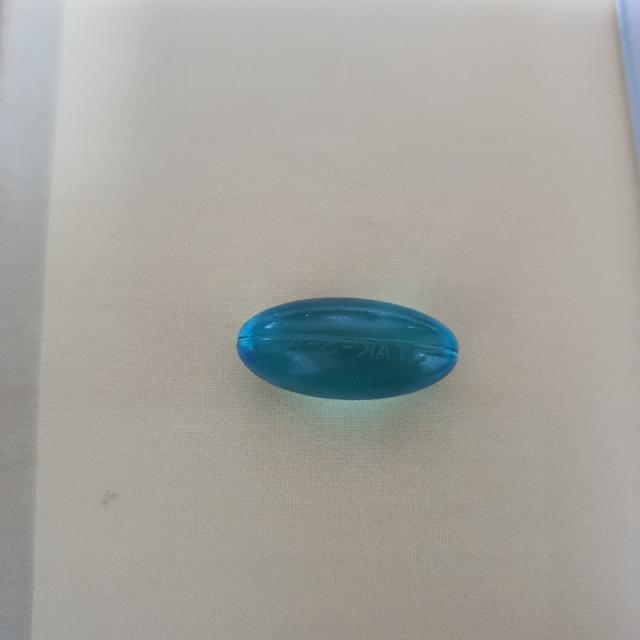pill: (226, 280, 476, 417)
